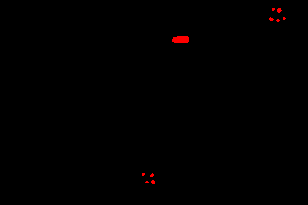Target: (172, 36, 189, 43), (277, 8, 282, 13), (269, 17, 274, 21), (150, 173, 154, 177), (151, 180, 155, 184), (276, 19, 280, 22), (272, 8, 275, 11), (283, 17, 286, 20), (142, 173, 145, 176), (145, 181, 149, 183)
